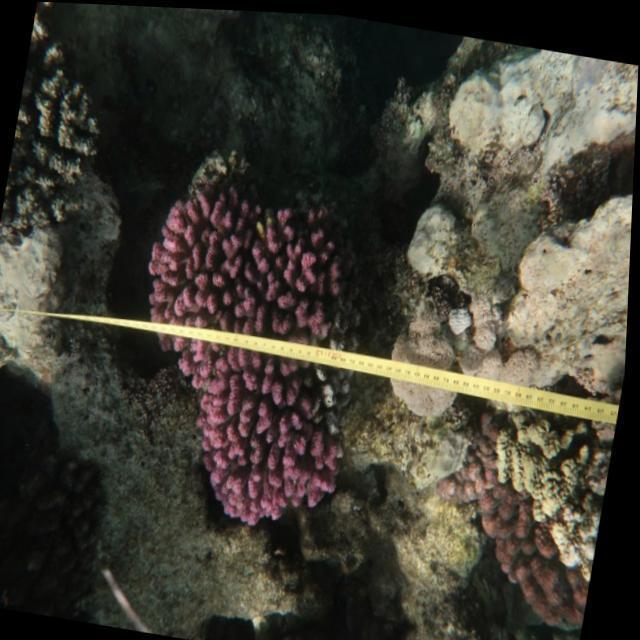Dead Coral: (0, 20, 102, 250)
Healthy Coral: (112, 176, 391, 542), (471, 421, 619, 614)
